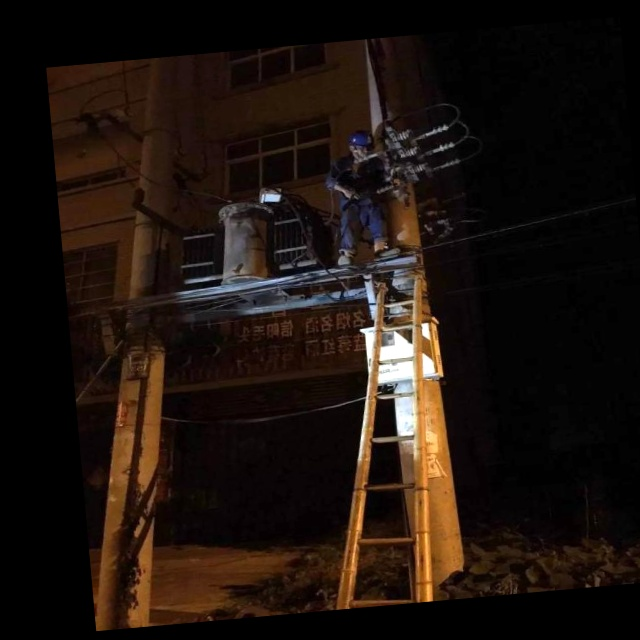Con_Casco: (346, 129, 377, 159)
